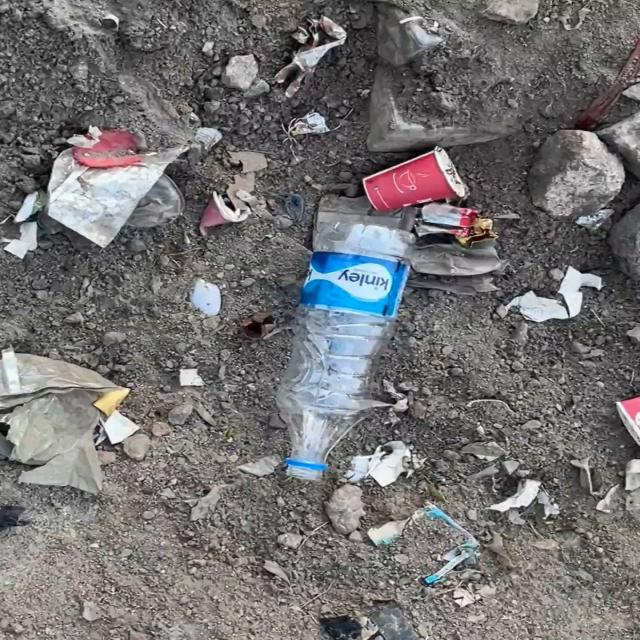dry: (278, 195, 416, 495), (0, 346, 133, 494), (49, 143, 199, 249), (363, 150, 469, 210)
